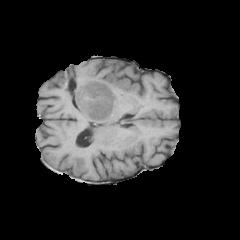glioma: (64, 66, 137, 122)
